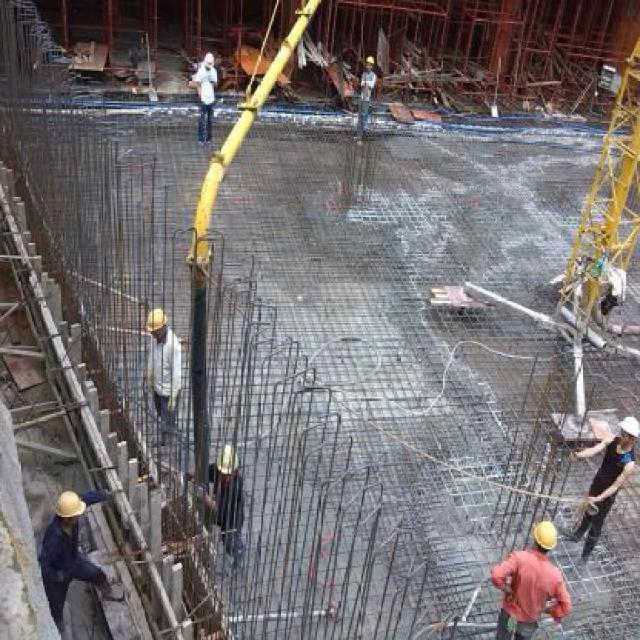person: (29, 474, 131, 625), (554, 405, 638, 565), (480, 513, 578, 633), (131, 296, 189, 453), (200, 435, 260, 571), (185, 40, 228, 152), (349, 51, 383, 152)
yellow: (52, 488, 90, 520), (532, 516, 564, 552), (145, 306, 173, 333)
